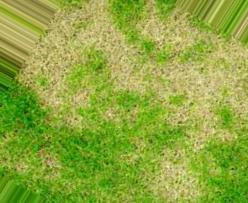patch: (133, 111, 184, 149), (117, 49, 156, 89), (48, 54, 84, 93), (70, 17, 126, 40), (33, 107, 66, 145), (183, 51, 228, 75), (148, 158, 184, 185), (184, 81, 215, 110), (159, 69, 173, 93), (50, 34, 67, 50)
